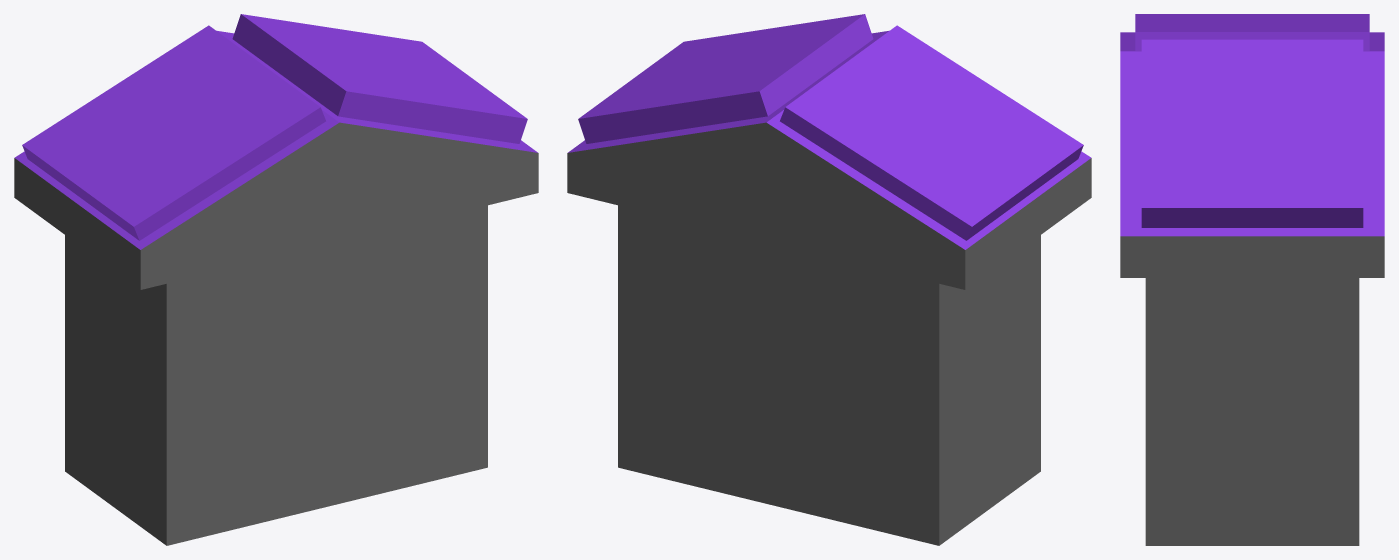
The model's file is cement.fbx.
The picture shows the model from 3 angles, left to right: view 1: azimuth 30°, elevation 25°; view 2: azimuth 150°, elevation 25°; view 3: azimuth 270°, elevation 25°; orthographic projection. The views are drawn at different scales.
Visible parts, largest first — view 1: Cube; view 2: Cube; view 3: Cube.
Boxes of the visible parts, <box> form: Cube: <box>14,14,538,545</box>; Cube: <box>567,14,1091,545</box>; Cube: <box>1120,14,1384,545</box>.
Bounding box in the file's own units: 380 × 376 × 208.
